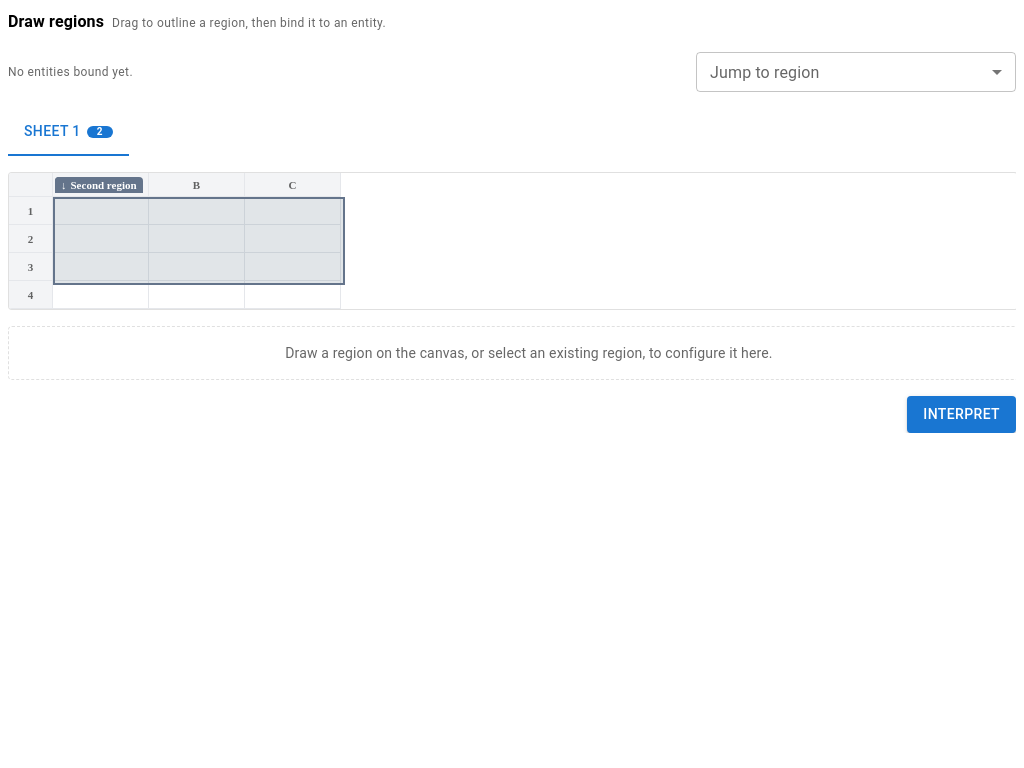
Test: RegionDrawingStepUI — interpret validation › clicking Interpret with two invalid regions reports the count and listed labels
What coordinates should you click on to do the following:
click the button "Interpret"
I would click on:
 (962, 414)
Its box is [907,396,1016,432].
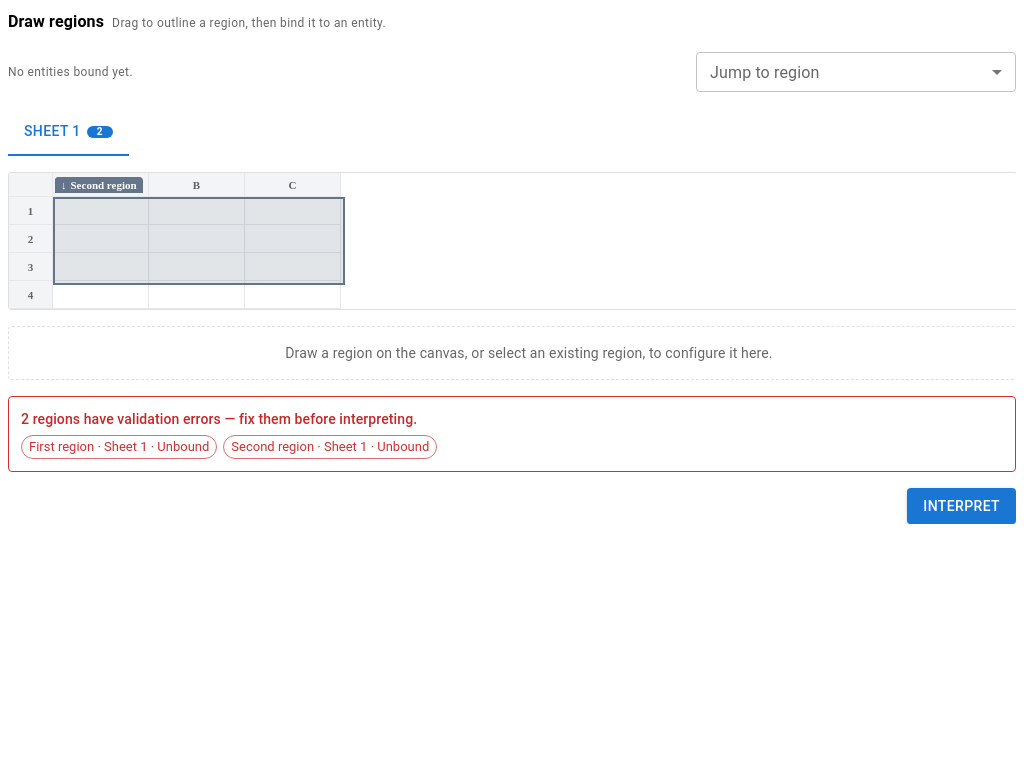
Expected: the message shows "2 regions have validation errors", [21,411,221,427]
Expected: the message shows "First region", [29,439,209,454]
Expected: the message shows "Second region", [231,439,429,454]
